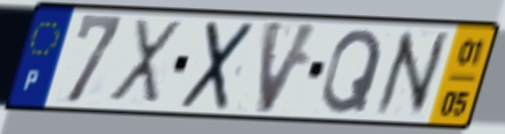7: (66, 11, 126, 109)
N: (371, 28, 452, 120)
Q: (318, 26, 386, 117)
V: (253, 17, 325, 118)
X: (175, 18, 259, 113), (104, 16, 185, 109)
